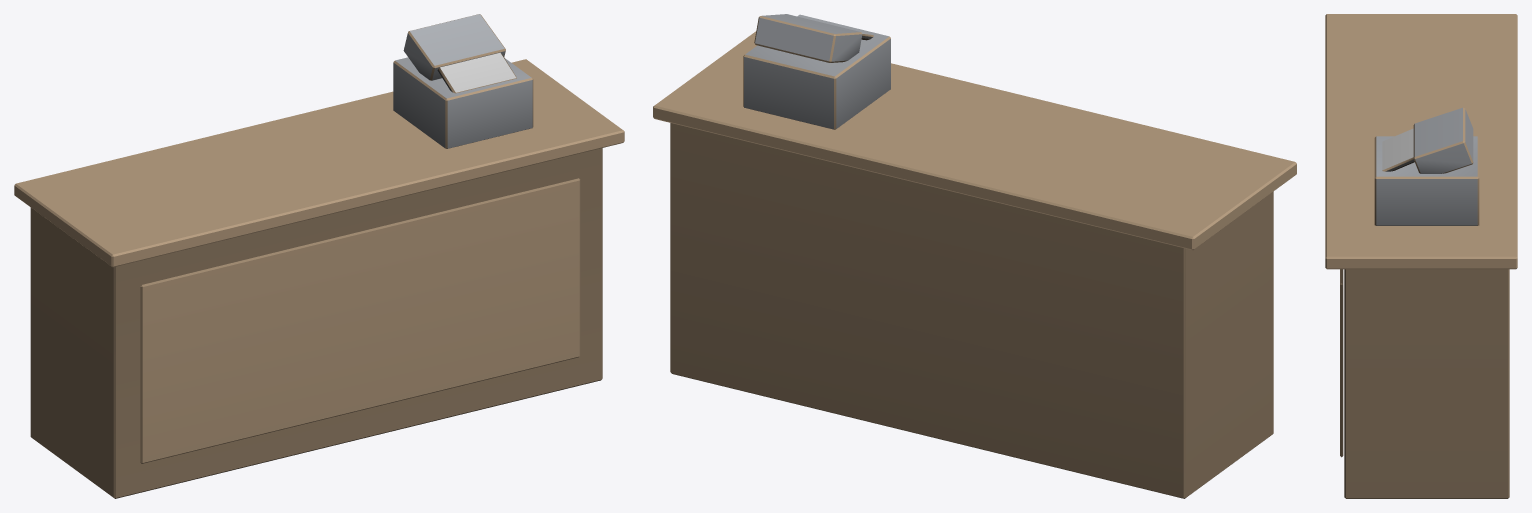
The model's file is counter.glb.
3 renders of one model, left to right at view 1: azimuth 30°, elevation 25°; view 2: azimuth 150°, elevation 25°; view 3: azimuth 270°, elevation 25°, orthographic. The views are drawn at different scales.
Parts seen in each view (by area): view 1: counter; view 2: counter; view 3: counter.
Boxes of the visible parts, x1,y1,x2,y2 form: counter: [14, 14, 624, 498]; counter: [653, 14, 1296, 498]; counter: [1325, 14, 1517, 498].
Size of the model in its own units: 2.1 by 1.32 by 0.7.
